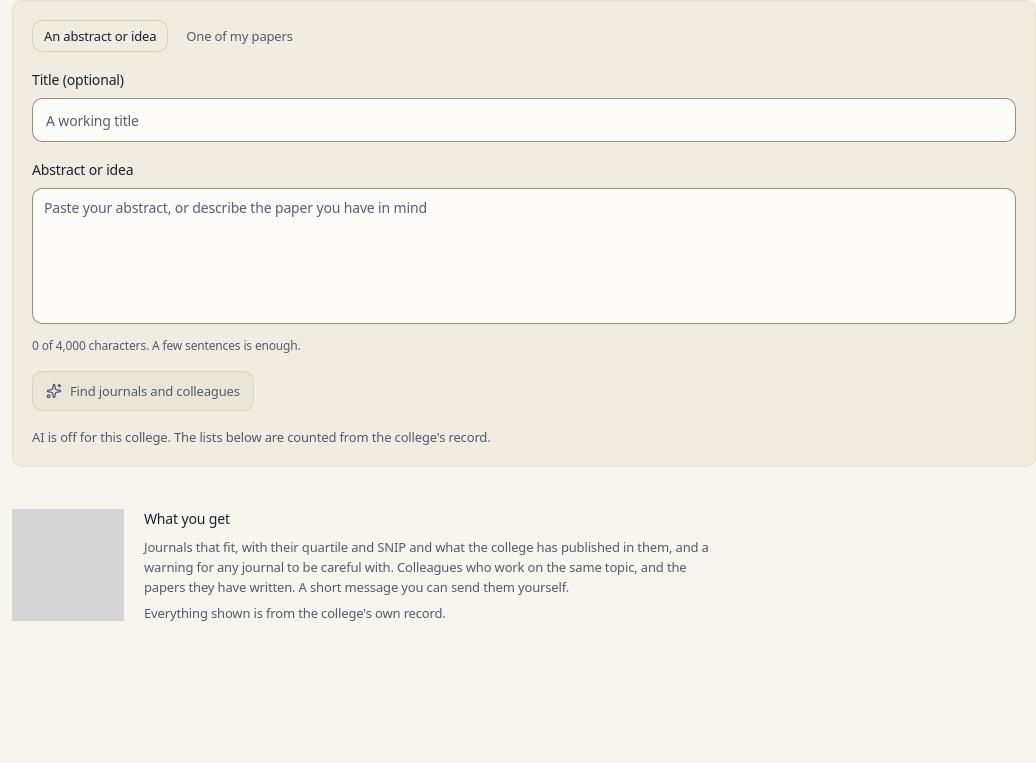
Test: Research helper: the lists › keeps a failed search to itself, with a way to try again
The image size is (1036, 763).
Type "We design a maximum power point tracking controller for photovoltaic arrays under partial shading." into the text box labelled "Abstract or idea" at [524, 256], box [32,188,1016,324]
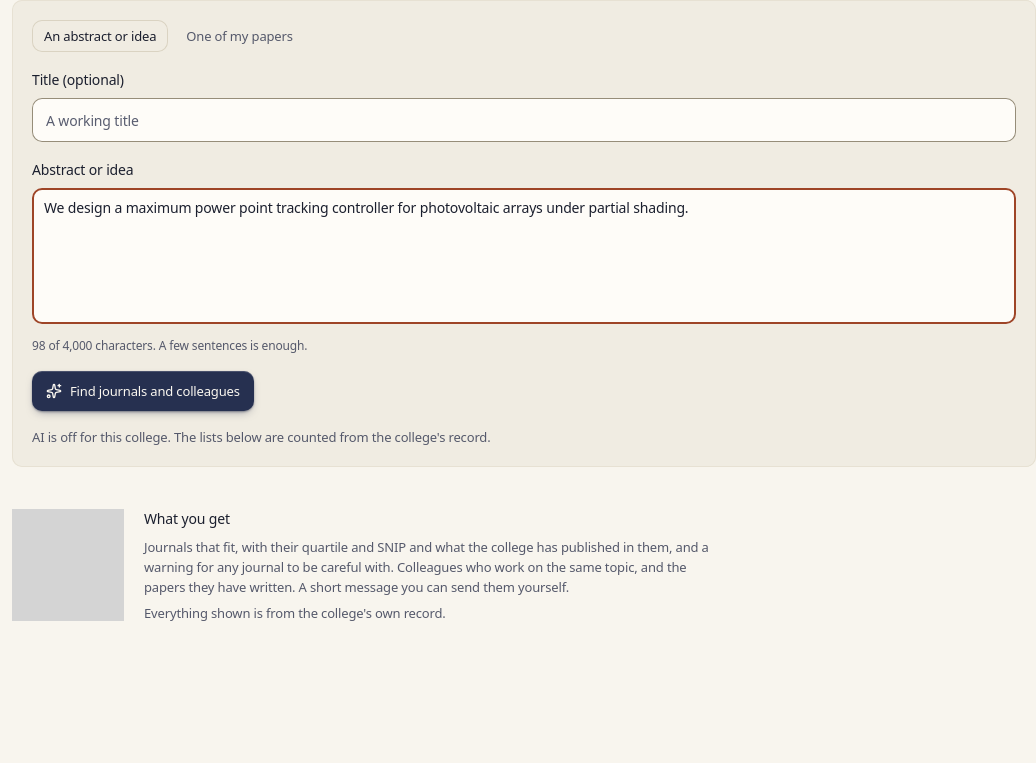
Click the button "Find journals and colleagues" at [143, 391], box [32,371,254,411]
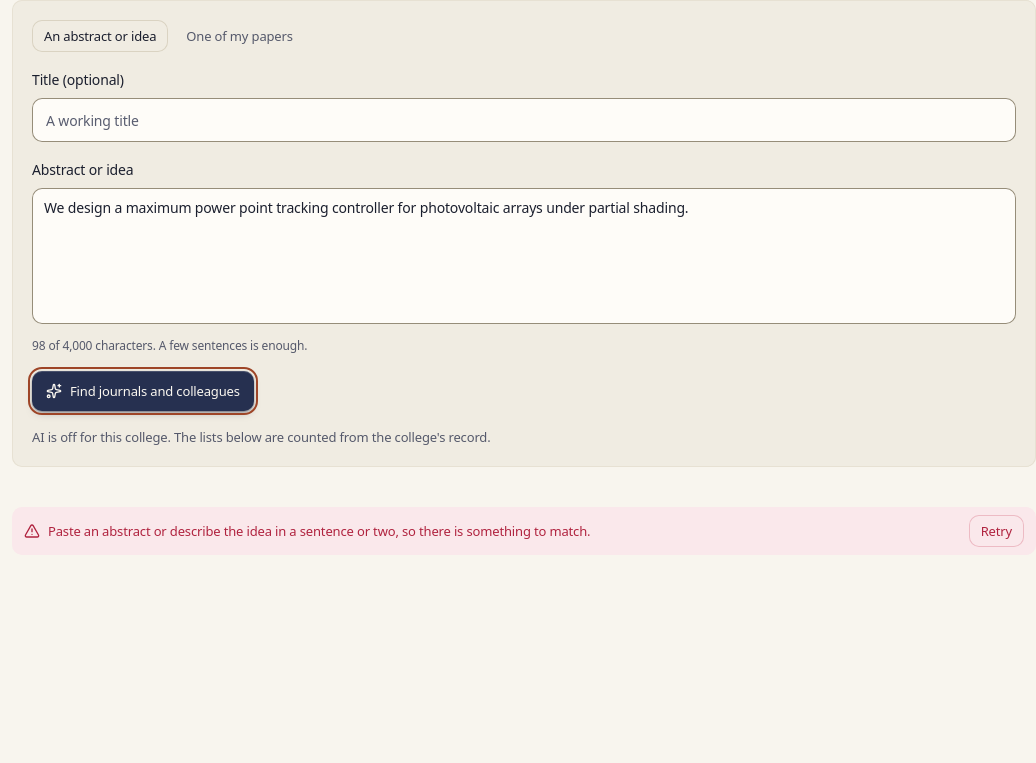
Now the text "Paste an abstract or describe the idea" is shown, box [48,522,590,540]
Click the button "Retry" at [996, 531], box [969,515,1024,547]
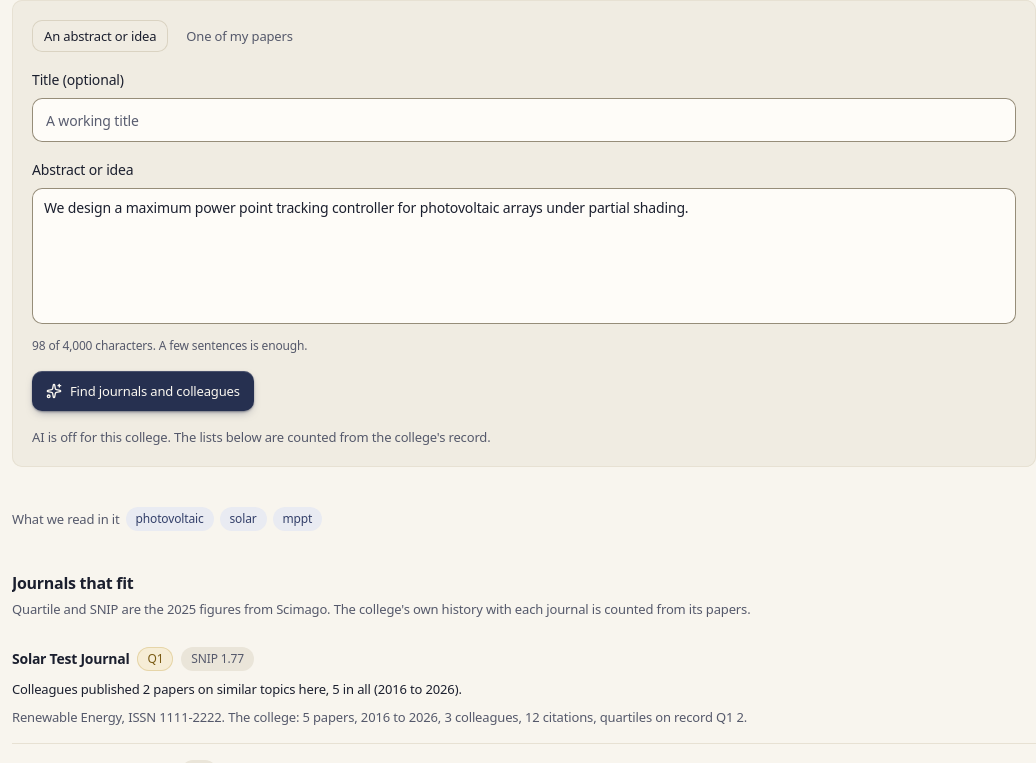
Now the heading "Journals that fit" is shown, box [12,572,134,594]
